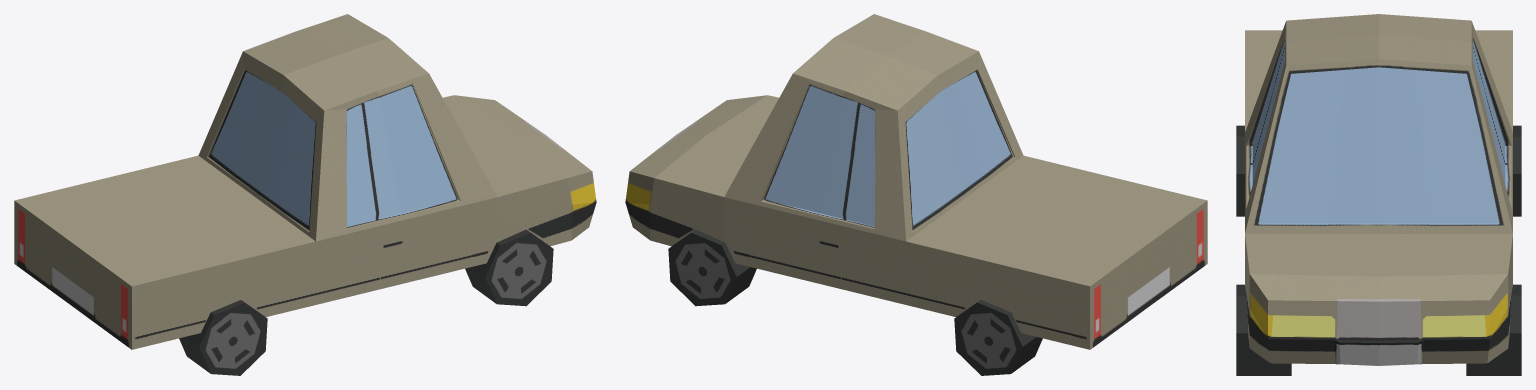
Rendered from Carro3LOD0.fbx.
The picture shows the model from 3 angles, left to right: view 1: azimuth 30°, elevation 25°; view 2: azimuth 150°, elevation 25°; view 3: azimuth 270°, elevation 25°; orthographic projection. The views are drawn at different scales.
Parts seen in each view (by area): view 1: carro3LOD0; view 2: carro3LOD0; view 3: carro3LOD0.
Part boxes in pixels (box(x1,y1,x2,y2)): carro3LOD0: box(14, 14, 596, 375); carro3LOD0: box(625, 14, 1207, 375); carro3LOD0: box(1236, 14, 1521, 375).
Bounding box in the file's own units: 608 × 293 × 275.
Materials: 1 (1 with a texture image).
